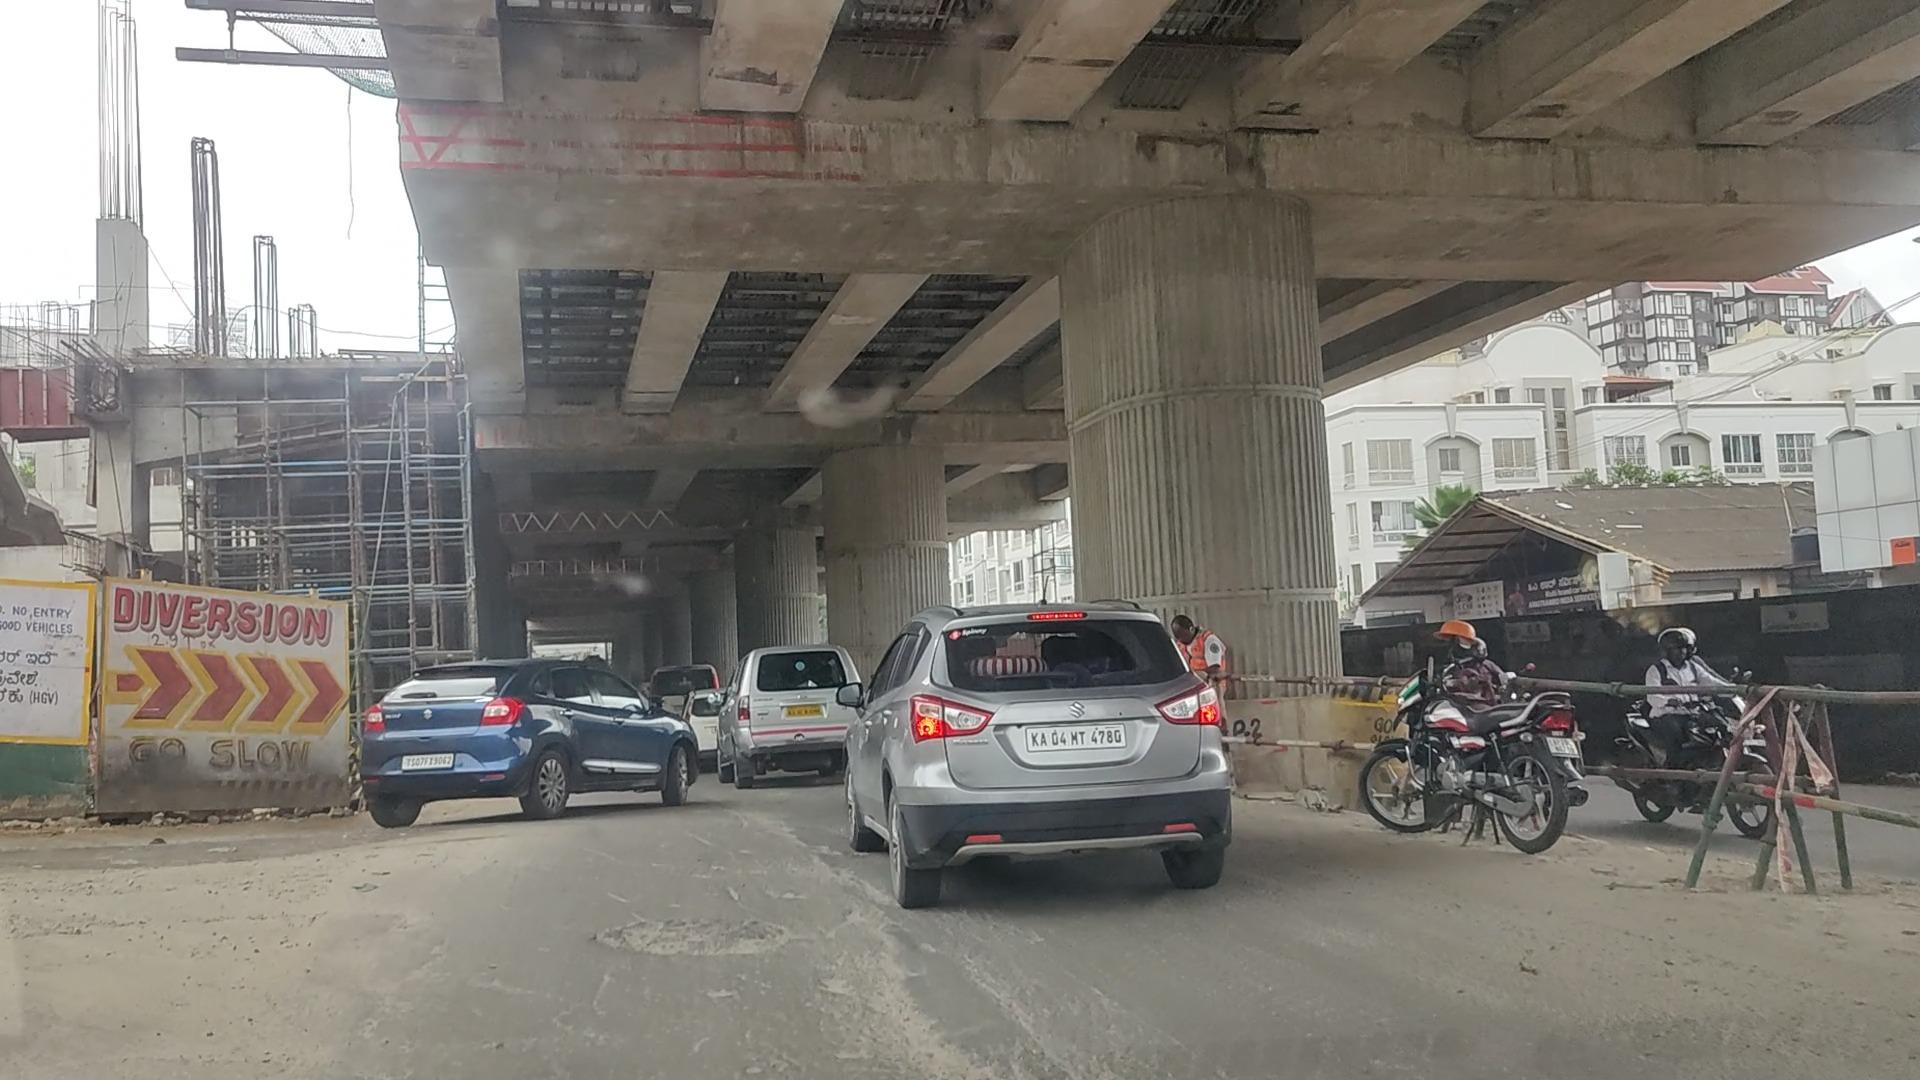LMV: (860, 599, 1232, 885), (363, 666, 700, 808), (736, 649, 856, 766)
RoadDamages: (843, 910, 1079, 1080), (600, 901, 795, 973), (735, 820, 858, 899)
